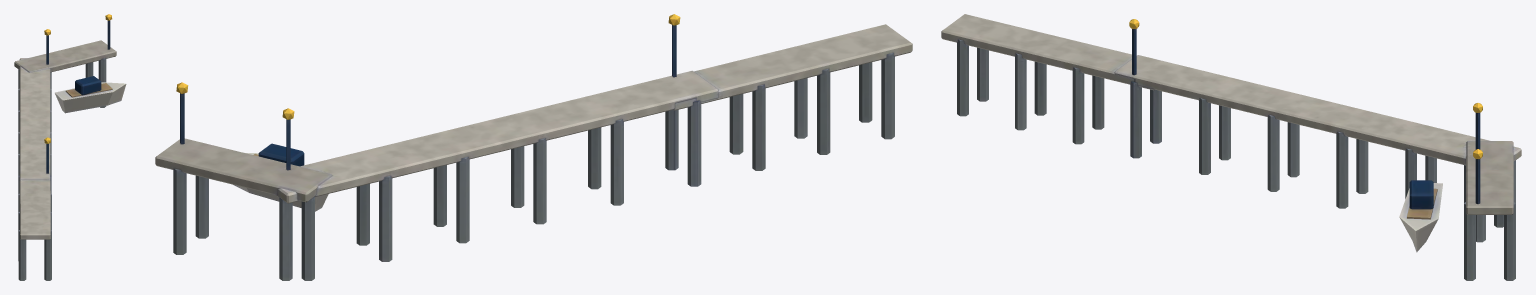
The model's file is harbor-pier-20.glb.
The picture shows the model from 3 angles, left to right: view 1: azimuth 30°, elevation 25°; view 2: azimuth 150°, elevation 25°; view 3: azimuth 270°, elevation 25°; orthographic projection. The views are drawn at different scales.
Parts seen in each view (by area): view 1: harbor-pier-20; view 2: harbor-pier-20; view 3: harbor-pier-20.
Boxes of the visible parts, x1,y1,x2,y2 form: harbor-pier-20: [14, 14, 126, 280]; harbor-pier-20: [155, 14, 912, 280]; harbor-pier-20: [941, 14, 1521, 280].
Size of the model in its own units: 2.33 by 0.76 by 2.92.
1 material, 1 textured.
